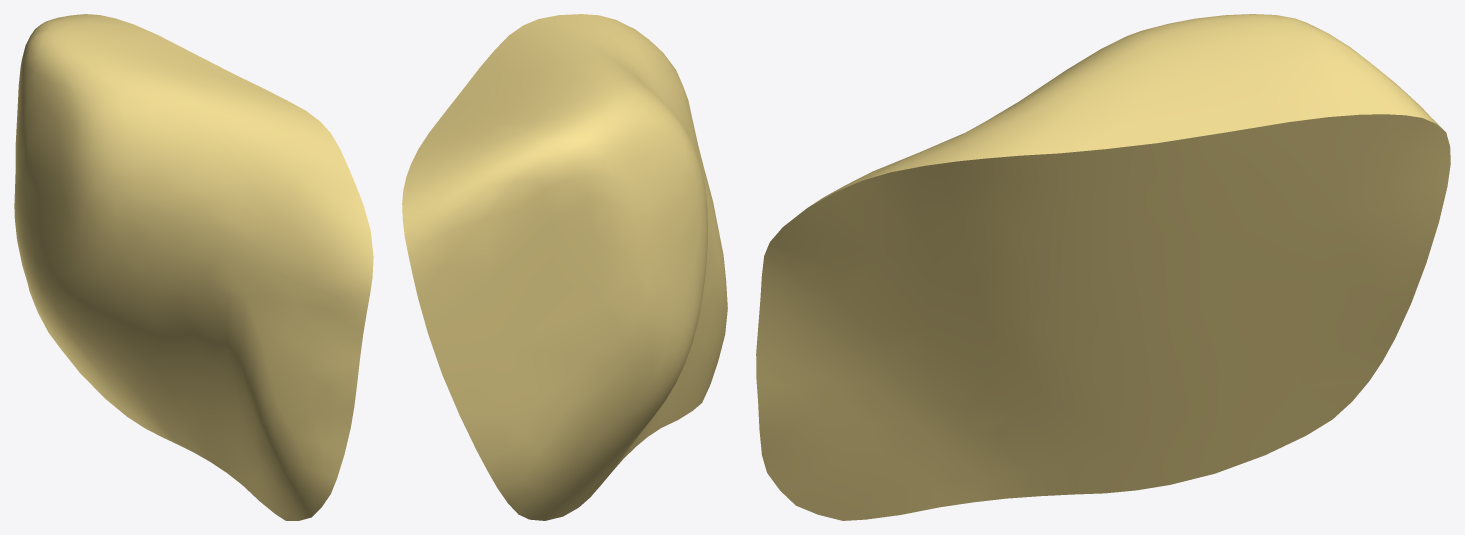
File: fma73000_mm2837m.glb
The picture shows the model from 3 angles, left to right: view 1: azimuth 30°, elevation 25°; view 2: azimuth 150°, elevation 25°; view 3: azimuth 270°, elevation 25°; orthographic projection. The views are drawn at different scales.
Visible parts, largest first — view 1: FMA73000_MM2837M; view 2: FMA73000_MM2837M; view 3: FMA73000_MM2837M.
Part boxes in pixels (left/top/right/bottom): FMA73000_MM2837M: left=14, top=14, right=373, bottom=520; FMA73000_MM2837M: left=402, top=14, right=727, bottom=520; FMA73000_MM2837M: left=756, top=14, right=1450, bottom=520.
Size of the model in its own units: 0.00532 by 0.00907 by 0.0122.
